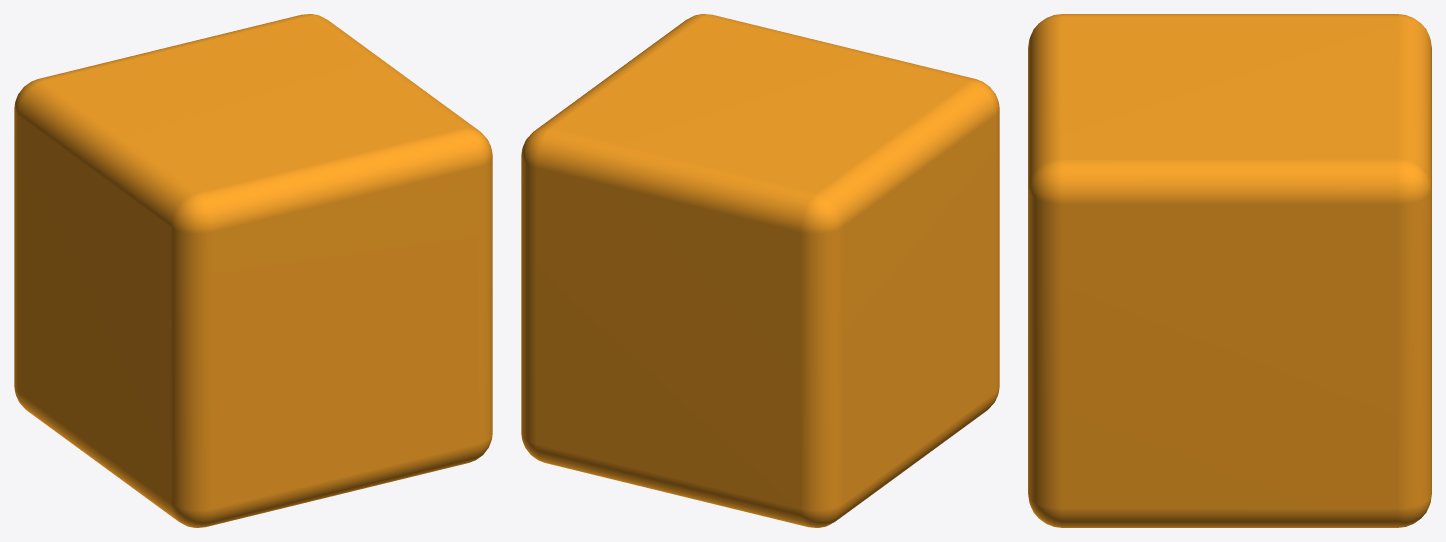
3 views of the same model, side by side, from view 1: azimuth 30°, elevation 25°; view 2: azimuth 150°, elevation 25°; view 3: azimuth 270°, elevation 25° (orthographic). The views are drawn at different scales.
Parts seen in each view (by area): view 1: SM_Primitive_Cube_04; view 2: SM_Primitive_Cube_04; view 3: SM_Primitive_Cube_04.
Part boxes in pixels (x1,y1,x2,y2): SM_Primitive_Cube_04: (14,14,492,527); SM_Primitive_Cube_04: (521,14,999,527); SM_Primitive_Cube_04: (1028,14,1431,527).
Size of the model in its own units: 100 by 100 by 100.
